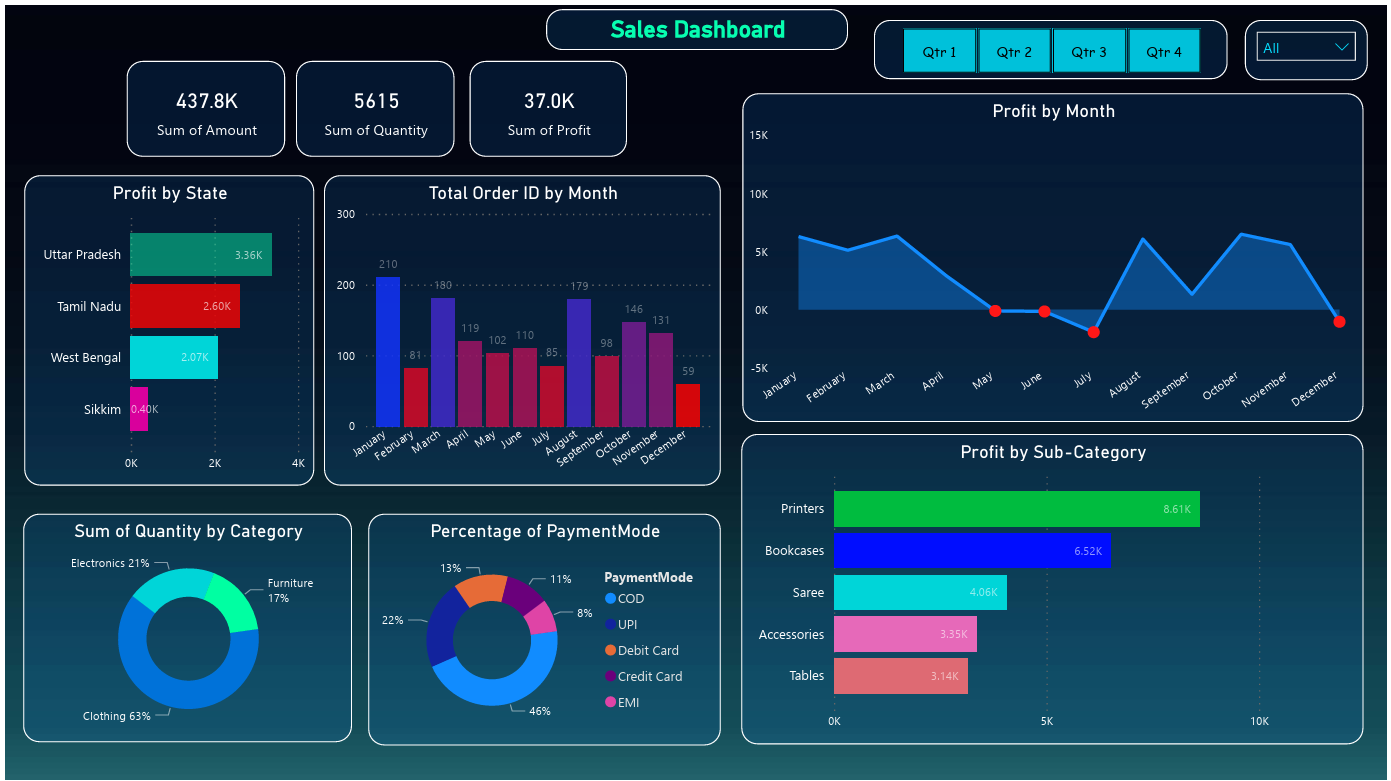

The page's visual inventory and layout, read from the dashboard file:
{"tool":"powerbi","page":{"name":"Page 1","canvas":[1280,720],"ordinal":0},"visuals":[{"type":"textbox","box":[500.9,3,279.9,38.4],"z":0},{"type":"areaChart","title":"Profit by Month","fields":{"Category":["Orders.Order Date.Variation.Date Hierarchy.Month"],"Y":["Sum(Details.Profit)"]},"box":[682.5,81.2,576.2,305],"z":1000},{"type":"barChart","title":"Profit by Sub-Category","fields":{"Category":["Details.Sub-Category"],"Y":["Sum(Details.Profit)"]},"box":[681.9,397.5,577.2,288],"z":2000},{"type":"donutChart","fields":{"Category":["Details.Category"],"Y":["Sum(Details.Quantity)"]},"box":[16.5,470.7,304.6,212.7],"z":3000},{"type":"donutChart","title":"Percentage of PaymentMode ","fields":{"Y":["CountNonNull(Details.PaymentMode)"],"Category":["Details.PaymentMode"]},"box":[336.2,470.7,326.6,215.4],"z":4000},{"type":"card","fields":{"Values":["Sum(Details.Amount)"]},"box":[112.2,51.5,146.4,88.1],"z":5000},{"type":"card","fields":{"Values":["Sum(Details.Quantity)"]},"box":[269.3,51.5,146.4,88.1],"z":6000},{"type":"card","fields":{"Values":["Sum(Details.Profit)"]},"box":[429.9,51.5,146.4,88.1],"z":7000},{"type":"barChart","title":"Profit by State","fields":{"Y":["Sum(Details.Profit)"],"Category":["Orders.State"]},"box":[16.7,156.7,269.2,288.3],"z":8000},{"type":"columnChart","title":"Total Order ID by Month","fields":{"Y":["CountNonNull(Details.Order ID)"],"Category":["Orders.Order Date.Variation.Date Hierarchy.Month"]},"box":[295,156.7,367.5,288.3],"z":9000},{"type":"slicer","fields":{"Values":["Orders.Order Date.Variation.Date Hierarchy.Quarter"]},"box":[805,12.5,327.5,55],"z":10000},{"type":"slicer","fields":{"Values":["Orders.State"]},"box":[1148.8,12.5,113.8,56.2],"z":11000}]}

Visuals, with their boxes in screenshot pixels (x1, y1, x2, y2), scaled from the page's 1280x720 canvas onto the 1391x781 screenshot:
textbox: (544, 3, 849, 45)
"Profit by Month" areaChart: (742, 88, 1368, 419)
"Profit by Sub-Category" barChart: (741, 431, 1368, 744)
donutChart - Details.Category x Sum(Details.Quantity): (18, 511, 349, 741)
"Percentage of PaymentMode " donutChart: (365, 511, 720, 744)
card - Sum(Details.Amount): (122, 56, 281, 151)
card - Sum(Details.Quantity): (293, 56, 452, 151)
card - Sum(Details.Profit): (467, 56, 626, 151)
"Profit by State" barChart: (18, 170, 311, 483)
"Total Order ID by Month" columnChart: (321, 170, 720, 483)
slicer - Orders.Order Date.Variation.Date Hierarchy.Quarter: (875, 14, 1231, 73)
slicer - Orders.State: (1248, 14, 1372, 75)
